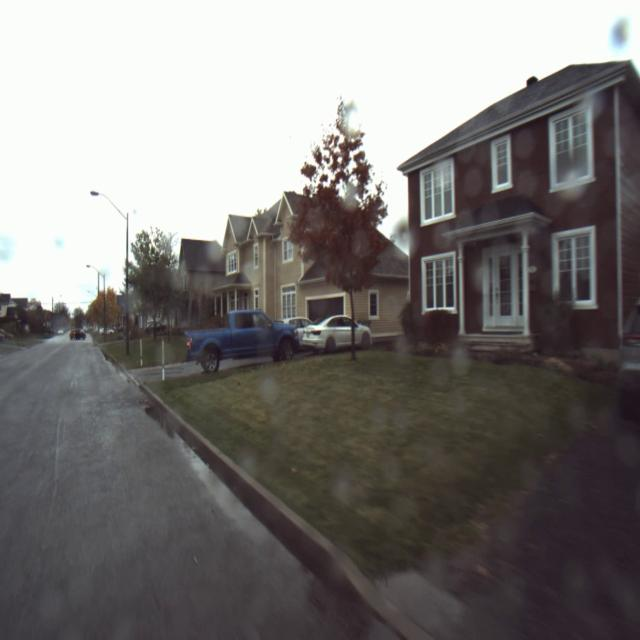car: (177, 306, 302, 370)
